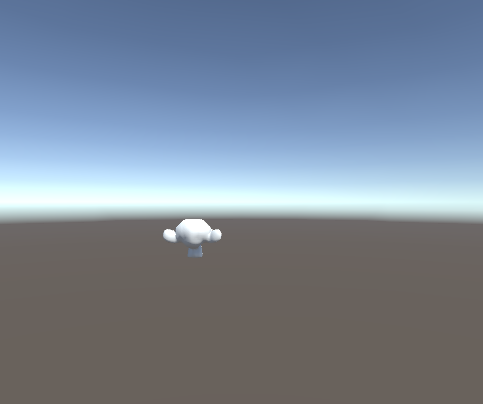monkey: (161, 217, 224, 260)
